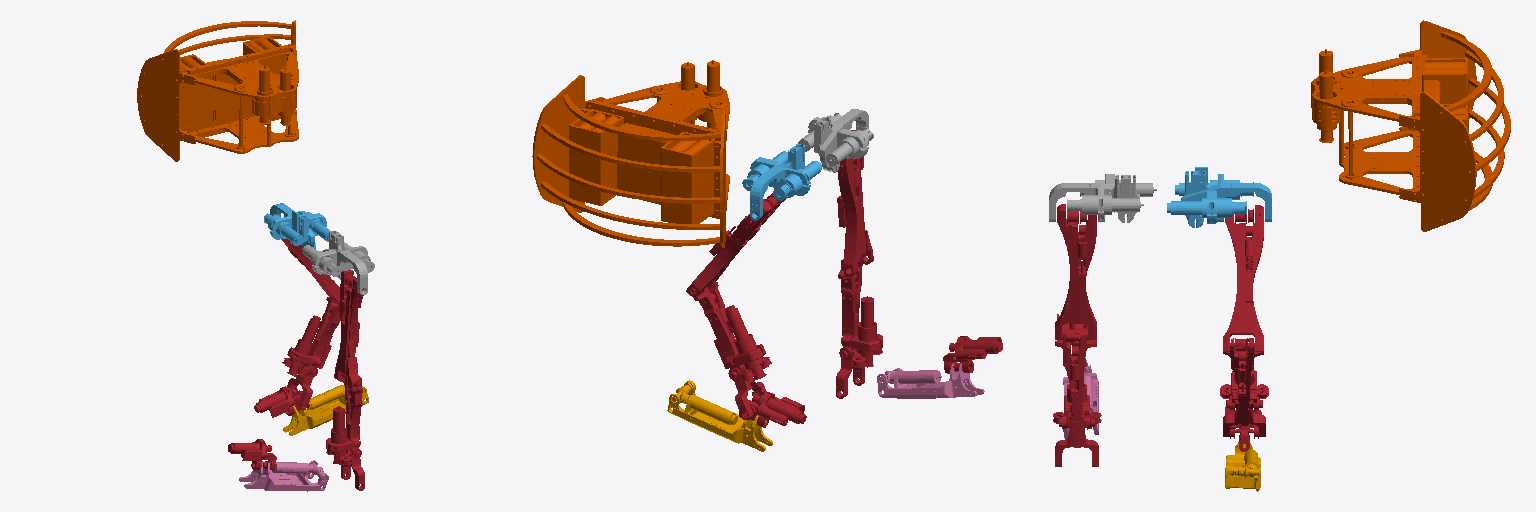
robot.urdf — caminante:
<robot name="caminante">
  
  <link name="l_foot">
    <inertial>
      <mass value="0.410" />
      <origin rpy="0 0 0" xyz="0.027 0 -0.067" />
      <inertia ixx="0.002" ixy="0" ixz="0" iyy="0.007" iyz="0" izz="0.008" />
    </inertial>
    <visual>
      <origin rpy="1.5657   -0.0000   -1.5708" xyz="0.0771   -0.0732    0.1504" />
      <geometry>
        <mesh filename="meshes/Left_Foot.obj" scale="1 1 1" />
      </geometry>
    </visual>
    <collision group="heel">
      <origin rpy="0 0 0" xyz="-0.0876 0.0300001 -0.040001" />
      <geometry>
        <sphere radius="0.0" />
      </geometry>
    </collision>
<!--     <visual group="heel">
      <origin rpy="0 0 0" xyz="-0.0876 0.0300001 -0.040001" />
      <geometry>
        <sphere radius="0.01" />
      </geometry>
    </visual> -->
    <collision group="heel">
      <origin rpy="0 0 0" xyz="-0.0876 -0.0300001 -0.040001" />
      <geometry>
        <sphere radius="0.0" />
      </geometry>
    </collision>
<!--     <visual group="heel">
      <origin rpy="0 0 0" xyz="-0.0876 -0.0300001 -0.040001" />
      <geometry>
        <sphere radius="0.01" />
      </geometry>
    </visual> -->
    <collision group="toe">
      <origin rpy="0 0 0" xyz="0.1728 0.0300001 -0.040001" />
      <geometry>
        <sphere radius="0.0" />
      </geometry>
    </collision>
<!--     <visual group="toe">
      <origin rpy="0 0 0" xyz="0.1728 0.0300001 -0.040001" />
      <geometry>
        <sphere radius="0.01" />
      </geometry>
    </visual> -->
    <collision group="toe">
      <origin rpy="0 0 0" xyz="0.1728 -0.0300001 -0.040001" />
      <geometry>
        <sphere radius="0.0" />
      </geometry>
    </collision>
<!--     <visual group="toe">
      <origin rpy="0 0 0" xyz="0.1728 -0.0300001 -0.040001" />
      <geometry>
        <sphere radius="0.01" />
      </geometry>
    </visual> -->
    <collision group="midfoot_front">
      <origin rpy="0 0 0" xyz="0.086 0.0300001 -0.040001" />
      <geometry>
        <sphere radius="0.0" />
      </geometry>
    </collision>
<!--     <visual group="midfoot_front">
      <origin rpy="0 0 0" xyz="0.086 0.0300001 -0.040001" />
      <geometry>
        <sphere radius="0.01" />
      </geometry>
    </visual> -->
    <collision group="midfoot_front">
      <origin rpy="0 0 0" xyz="0.086 -0.0300001 -0.040001" />
      <geometry>
        <sphere radius="0.0" />
      </geometry>
    </collision>
<!--     <visual group="midfoot_front">
      <origin rpy="0 0 0" xyz="0.086 -0.0300001 -0.040001" />
      <geometry>
        <sphere radius="0.01" />
      </geometry>
    </visual> -->
    <collision group="midfoot_rear">
      <origin rpy="0 0 0" xyz="-0.0008 0.0300001 -0.040001" />
      <geometry>
        <sphere radius="0.0" />
      </geometry>
    </collision>
<!--     <visual group="midfoot_rear">
      <origin rpy="0 0 0" xyz="-0.0008 0.0300001 -0.040001" />
      <geometry>
        <sphere radius="0.01" />
      </geometry>
    </visual> -->
    <collision group="midfoot_rear">
      <origin rpy="0 0 0" xyz="-0.0008 -0.0300001 -0.040001" />
      <geometry>
        <sphere radius="0.0" />
      </geometry>
    </collision>
    <!-- <visual group="midfoot_rear">
      <origin rpy="0 0 0" xyz="-0.0008 -0.0300001 -0.040001" />
      <geometry>
        <sphere radius="0.01" />
      </geometry>
    </visual> -->
  </link>
 

  <link name="l_lglut">
    <inertial>
      <mass value="0.437298303222345" />
      <origin rpy="0  0  0" xyz="-0.03492  0.03099  0.00015" />
      <inertia ixx="0.000344658356090036" ixy="1.4438940947967E-05" ixz="5.03774354824921E-05" iyy="0.000819710121372963" iyz="1.99893504999227E-05" izz="0.00066955963284712" />
    </inertial>
    <visual>
      <origin rpy="0  0  0" xyz="-0.00384 -0.3021  -0.06945" />
      <geometry>
        <mesh filename="meshes/Left_Hip.obj" scale="1 1 1" />
      </geometry>
    </visual>
  </link>
  <link name="l_lleg">
    <inertial>
      <mass value="0.512558545145301" />
      <origin rpy="0  0  0" xyz="0      -0.11018  0.00843" />
      <inertia ixx="0.00213377963819277" ixy="3.74835359824284E-05" ixz="4.14809936352257E-06" iyy="0.000231679313040171" iyz="0.000107877166470471" izz="0.0021213704718963" />
    </inertial>
    <visual>
      <origin rpy="0  0  0" xyz="0.07301 -0.09254 -0.0714" />
      <geometry>
        <mesh filename="meshes/Bottom_Left_Leg.obj" scale="1 1 1" />
      </geometry>
      <material name="red">
        <color rgba="0.675 0.169 0.216 1.0" />
      </material>
    </visual>
  </link>

  <link name="l_talus">
    <inertial>
      <mass value="0.117206413777382" />
      <origin rpy="0  0  0" xyz="0       0.00525  0.02552" />
      <inertia ixx="0.000111896827570048" ixy="5.94543100842475E-07" ixz="2.57140126177776E-06" iyy="0.000105965848764851" iyz="2.65868228080628E-05" izz="4.20803404080659E-05" />
    </inertial>
    <visual>
      <origin rpy="0  0  0" xyz="0.07317  0.12875 -0.07027" />
      <geometry>
        <mesh filename="meshes/Left_Ankle.obj" scale="1 1 1" />
      </geometry>
      <material name="red">
        <color rgba="0.675 0.169 0.216 1.0" />
      </material>
    </visual>
  </link>


  <link name="l_uleg">
    <inertial>
      <mass value="0.498661421818378" />
      <origin rpy="0  0  0" xyz="0      -0.09292 -0.00071" />
      <inertia ixx="0.00222023286489819" ixy="2.76170328092637E-05" ixz="4.42071982951624E-07" iyy="0.000133616406118555" iyz="1.5209311638611E-05" izz="0.00230781854965746" />
    </inertial>
    <visual>
      <origin rpy="0  0  0" xyz="0.07675 -0.30208 -0.07247" />
      <geometry>
        <mesh filename="meshes/Top_Left_Leg.obj" scale="1 1 1" />
      </geometry>
      <material name="red">
        <color rgba="0.675 0.169 0.216 1.0" />
      </material>
    </visual>
    
    
    
  </link>

  <link name="pelvis">
    <inertial>
      <mass value="6.4909068" />
      <origin rpy="1.56567  0      -1.57079" xyz="0 0 0" />
      <inertia ixx="0.0271179077728007" ixy="1.18852566353138E-05" ixz="2.95478792996208E-05" iyy="0.0323353494450389" iyz="0.00289482168449842" izz="0.0422145237899791" />
    </inertial>
    <visual>
      <geometry>
        
        <origin rpy="1.56567  0      -1.57079" xyz="0.0786    0.05923   -0.41164" />
        <mesh filename="meshes/Body.obj" scale="1 1 1" />
      </geometry>
    </visual>
  </link>
 
  <link name="r_foot">
    <inertial>
      <mass value="0.41" />
      <origin rpy="0 0 0" xyz="0.027 0 -0.067" />
      <inertia ixx="0.002" ixy="0" ixz="0" iyy="0.007" iyz="0" izz="0.008" />
    </inertial>
    <visual>
      <origin rpy="1.5657   -0.0000   -1.5708" xyz="0.0771    0.1935    0.1504" />
      <geometry>
        <mesh filename="meshes/Right_Foot.obj" scale="1 1 1" />
      </geometry>
    </visual>
    <collision group="heel">
      <origin rpy="0 0 0" xyz="-0.0876 0.0300001 -0.040001" />
      <geometry>
        <sphere radius="0.0" />
      </geometry>
    </collision>
<!--     <visual group="heel">
      <origin rpy="0 0 0" xyz="-0.0876 0.0300001 -0.040001" />
      <geometry>
        <sphere radius="0.01" />
      </geometry>
    </visual> -->
    <collision group="heel">
      <origin rpy="0 0 0" xyz="-0.0876 -0.0300001 -0.040001" />
      <geometry>
        <sphere radius="0.0" />
      </geometry>
    </collision>
    <!-- <visual group="heel">
      <origin rpy="0 0 0" xyz="-0.0876 -0.0300001 -0.040001" />
      <geometry>
        <sphere radius="0.01" />
      </geometry>
    </visual> -->
    <collision group="toe">
      <origin rpy="0 0 0" xyz="0.1728 0.0300001 -0.040001" />
      <geometry>
        <sphere radius="0.0" />
      </geometry>
    </collision>
    <!-- <visual group="toe">
      <origin rpy="0 0 0" xyz="0.1728 0.0300001 -0.040001" />
      <geometry>
        <sphere radius="0.01" />
      </geometry>
    </visual> -->
    <collision group="toe">
      <origin rpy="0 0 0" xyz="0.1728 -0.0300001 -0.040001" />
      <geometry>
        <sphere radius="0.0" />
      </geometry>
    </collision>
    <!-- <visual group="toe">
      <origin rpy="0 0 0" xyz="0.1728 -0.0300001 -0.040001" />
      <geometry>
        <sphere radius="0.01" />
      </geometry>
    </visual> -->
    <collision group="midfoot_front">
      <origin rpy="0 0 0" xyz="0.086 0.0300001 -0.040001" />
      <geometry>
        <sphere radius="0.0" />
      </geometry>
    </collision>
    <!-- <visual group="midfoot_front">
      <origin rpy="0 0 0" xyz="0.086 0.0300001 -0.040001" />
      <geometry>
        <sphere radius="0.01" />
      </geometry>
    </visual> -->
    <collision group="midfoot_front">
      <origin rpy="0 0 0" xyz="0.086 -0.0300001 -0.040001" />
      <geometry>
        <sphere radius="0.0" />
      </geometry>
    </collision>
    <!-- <visual group="midfoot_front">
      <origin rpy="0 0 0" xyz="0.086 -0.0300001 -0.040001" />
      <geometry>
        <sphere radius="0.01" />
      </geometry>
    </visual> -->
    <collision group="midfoot_rear">
      <origin rpy="0 0 0" xyz="-0.0008 0.0300001 -0.040001" />
      <geometry>
        <sphere radius="0.0" />
      </geometry>
    </collision>
<!--     <visual group="midfoot_rear">
      <origin rpy="0 0 0" xyz="-0.0008 0.0300001 -0.040001" />
      <geometry>
        <sphere radius="0.01" />
      </geometry>
    </visual> -->
    <collision group="midfoot_rear">
      <origin rpy="0 0 0" xyz="-0.0008 -0.0300001 -0.040001" />
      <geometry>
        <sphere radius="0.0" />
      </geometry>
    </collision>
<!--     <visual group="midfoot_rear">
      <origin rpy="0 0 0" xyz="-0.0008 -0.0300001 -0.040001" />
      <geometry>
        <sphere radius="0.01" />
      </geometry>
    </visual> -->
  </link>


  
  <link name="r_lglut">
    <inertial>
      <mass value="0.429542604129865" />
      <origin rpy="0  0  0" xyz="0.03461  0.03088  0.00015" />
      <inertia ixx="0.000335620222780637" ixy="1.71766252899159E-05" ixz="6.82036560203188E-05" iyy="0.000796625170345829" iyz="1.87749814800264E-05" izz="0.000651844767117383" />
    </inertial>
    <visual>
      <origin rpy="0  0  0" xyz="-0.11497 -0.30207 -0.0756" />
      <geometry>
        <mesh filename="meshes/Right_Hip.obj" scale="1 1 1" />
      </geometry>
    </visual>
  </link>
  <link name="r_lleg">
    <inertial>
      <mass value="0.496399914621672" />
      <origin rpy="0  0  0" xyz="0      -0.11414  0.00893" />
      <inertia ixx="0.00193251368574828" ixy="2.87905126861506E-05" ixz="3.64310219704147E-06" iyy="0.000228879661927419" iyz="9.27392912409724E-05" izz="0.00191229395918849" />
    </inertial>
    <visual>
      <origin rpy="0  0  0" xyz="-0.1935  -0.09254 -0.0714" />
      <geometry>
        <mesh filename="meshes/Bottom_Right_Leg.obj" scale="1 1 1" />
      </geometry>
      <material name="red">
        <color rgba="0.675 0.169 0.216 1.0" />
      </material>
    </visual>
  </link>

  <link name="r_talus">
    <inertial>
      <mass value="0.113529232705104" />
      <origin rpy="0  0  0" xyz="0       0.00601  0.02692" />
      <inertia ixx="0.000102683690789615" ixy="5.24094963661094E-07" ixz="2.43532379680455E-06" iyy="9.8810717962194E-05" iyz="2.27559446851328E-05" izz="3.98903277983113E-05" />
    </inertial>
    <visual>
      <origin rpy="0  0  0" xyz="-0.19355  0.12875 -0.07027" />
      <geometry>
        <mesh filename="meshes/Right_Ankle.obj" scale="1 1 1" />
      </geometry>
      <material name="red">
        <color rgba="0.675 0.169 0.216 1.0" />
      </material>
    </visual>
  </link>



  <link name="r_uleg">
    <inertial>
      <mass value="0.473894617598188" />
      <origin rpy="0  0  0" xyz="0      -0.09427 -0.00073" />
      <inertia ixx="0.00219613513040201" ixy="2.41554166439975E-05" ixz="4.92477643768768E-07" iyy="0.000130736562803138" iyz="1.49414818095768E-05" izz="0.00228460638702232" />
    </inertial>
    <visual>
      <origin rpy="0  0  0" xyz="-0.19021 -0.30208 -0.07247" />
      <geometry>
        <mesh filename="meshes/Top_Right_Leg.obj" scale="1 1 1" />
      </geometry>
      <material name="red">
        <color rgba="0.675 0.169 0.216 1.0" />
      </material>
    </visual>
    
    
    
 </link> 







  <joint name="l_leg_akx" type="revolute">
    <origin rpy="-0.0012    1.5657    1.5696" xyz="0   -0.0220    0.0060" />
    <axis xyz="1 0 0" />
    <parent link="l_talus" />
    <child link="l_foot" />
    <dynamics damping="0.1" friction="0" />
    <limit effort="4.4928" lower="-0.8" upper="0.8" velocity="12" />
    <safety_controller k_position="100" k_velocity="100" soft_lower_limit="-10.8" soft_upper_limit="10.8" />
  </joint>
  <joint name="l_leg_aky" type="revolute">
    <origin rpy="0  0  0" xyz="-1.50000000e-04  -2.21290000e-01  -1.13000000e-03" />
    <axis xyz="-1  0  0" />
    <parent link="l_lleg" />
    <child link="l_talus" />
    <dynamics damping="0.1" friction="0" />
    <limit effort="67.932" lower="-1" upper="0.7" velocity="12" />
    <safety_controller k_position="100" k_velocity="100" soft_lower_limit="-11" soft_upper_limit="10.7" />
  </joint>
  <joint name="l_leg_hpx" type="revolute">
    
    <origin rpy="1.56567  0      -1.57079" xyz="0.0107    0.05539   -0.10919" />
    
    <axis xyz="0      -0.00511  0.99998" />  
    <parent link="pelvis" />
    <child link="l_lglut" />
    <dynamics damping="0.1" friction="0" />
    <limit effort="67.932" lower="-0.523599" upper="0.523599" velocity="12" />
    <safety_controller k_position="100" k_velocity="100" soft_lower_limit="-10.5236" soft_upper_limit="10.5236" />
  </joint>
  <joint name="l_leg_hpy" type="revolute">
    
    <origin rpy="0  0  0" xyz="-8.05900000e-02  -1.00000000e-05   3.02000000e-03" />
    <axis xyz="-1  0  0" />
    <parent link="l_lglut" />
    <child link="l_uleg" />
    <dynamics damping="0.1" friction="0" />
    <limit effort="67.932" lower="-1.61234" upper="0.65764" velocity="12" />
    <safety_controller k_position="100" k_velocity="100" soft_lower_limit="-11.6123" soft_upper_limit="10.6576" />
  </joint>

  <joint name="l_leg_kny" type="revolute">
    <origin rpy="0  0  0" xyz="0.00373 -0.20954 -0.00107" />
    <axis xyz="-1  0  0" />
    <parent link="l_uleg" />
    <child link="l_lleg" />
    <dynamics damping="0.1" friction="0" />
    <limit effort="67.932" lower="0" upper="2" velocity="12" />
    <safety_controller k_position="100" k_velocity="100" soft_lower_limit="-10" soft_upper_limit="12.3564" />
  </joint>



  <joint name="r_leg_akx" type="revolute">
    <origin rpy="-0.0012    1.5657    1.5696" xyz="0   -0.0220    0.0060" />
    <axis xyz="1 0 0" />
    <parent link="r_talus" />
    <child link="r_foot" />
    <dynamics damping="0.1" friction="0" />
    <limit effort="4.4928" lower="-0.8" upper="0.8" velocity="12" />
    <safety_controller k_position="100" k_velocity="100" soft_lower_limit="-10.8" soft_upper_limit="10.8" />
  </joint>
  <joint name="r_leg_aky" type="revolute">
    <origin rpy="0  0  0" xyz="4.00000000e-05  -2.21290000e-01  -1.13000000e-03" />
    <axis xyz="-1  0  0" />
    <parent link="r_lleg" />
    <child link="r_talus" />
    <dynamics damping="0.1" friction="0" />
    <limit effort="67.932" lower="-1" upper="0.7" velocity="12" />
    <safety_controller k_position="100" k_velocity="100" soft_lower_limit="-11" soft_upper_limit="10.7" />
  </joint>
  <joint name="r_leg_hpx" type="revolute">
    <origin rpy="1.56567  0      -1.57079" xyz="0.00455  -0.05573  -0.10919" />
    <axis xyz="0       0.00511 -0.99998" />
    <parent link="pelvis" />
    <child link="r_lglut" />
    <dynamics damping="0.1" friction="0" />
    <limit effort="67.932" lower="-0.523599" upper="0.523599" velocity="12" />
    <safety_controller k_position="100" k_velocity="100" soft_lower_limit="-10.5236" soft_upper_limit="10.5236" />
  </joint>
  <joint name="r_leg_hpy" type="revolute">
    <origin rpy="0  0  0" xyz="7.52400000e-02   1.00000000e-05  -3.13000000e-03" />
    <axis xyz="-1  0  0" />
    <parent link="r_lglut" />
    <child link="r_uleg" />
    <dynamics damping="0.1" friction="0" />
    <limit effort="67.932" lower="-1.61234" upper="0.65764" velocity="12" />
    <safety_controller k_position="100" k_velocity="100" soft_lower_limit="-11.6123" soft_upper_limit="10.6576" />
  </joint>

  <joint name="r_leg_kny" type="revolute">
    <origin rpy="0  0  0" xyz="0.00328 -0.20954 -0.00107" />
    <axis xyz="-1  0  0" />
    <parent link="r_uleg" />
    <child link="r_lleg" />
    <dynamics damping="0.1" friction="0" />
    <limit effort="67.932" lower="0" upper="2" velocity="12" />
    <safety_controller k_position="100" k_velocity="100" soft_lower_limit="-10" soft_upper_limit="12.3564" />
  </joint>
 
  <frame link="l_foot" name="l_foot_sole" rpy="0 0 0" xyz="0.0426  0.0017 -0.040001" />
  <frame link="r_foot" name="r_foot_sole" rpy="0 0 0" xyz="0.0426 -0.0017 -0.040001" />
  <frame link="l_foot" name="l_foot_toe" rpy="0 0 0" xyz="0.1728 0.0017 -0.040001" />
  <frame link="r_foot" name="r_foot_toe" rpy="0 0 0" xyz="0.1728 -0.0017 -0.040001" />



 
  



  <transmission name="l_leg_kny_trans" type="pr2_mechanism_model/SimpleTransmission">
    <actuator name="l_leg_kny_motor" />
    <joint name="l_leg_kny" />
    <mechanicalReduction>1</mechanicalReduction>
  </transmission>
  <transmission name="l_leg_akx_trans" type="pr2_mechanism_model/SimpleTransmission">
    <actuator name="l_leg_akx_motor" />
    <joint name="l_leg_akx" />
    <mechanicalReduction>1</mechanicalReduction>
  </transmission>
  <transmission name="l_leg_hpy_trans" type="pr2_mechanism_model/SimpleTransmission">
    <actuator name="l_leg_hpy_motor" />
    <joint name="l_leg_hpy" />
    <mechanicalReduction>1</mechanicalReduction>
  </transmission>
  <transmission name="l_leg_hpx_trans" type="pr2_mechanism_model/SimpleTransmission">
    <actuator name="l_leg_hpx_motor" />
    <joint name="l_leg_hpx" />
    <mechanicalReduction>1</mechanicalReduction>
  </transmission>
  <transmission name="l_leg_aky_trans" type="pr2_mechanism_model/SimpleTransmission">
    <actuator name="l_leg_aky_motor" />
    <joint name="l_leg_aky" />
    <mechanicalReduction>1</mechanicalReduction>
  </transmission>



  <transmission name="r_leg_kny_trans" type="pr2_mechanism_model/SimpleTransmission">
    <actuator name="r_leg_kny_motor" />
    <joint name="r_leg_kny" />
    <mechanicalReduction>1</mechanicalReduction>
  </transmission>
  <transmission name="r_leg_akx_trans" type="pr2_mechanism_model/SimpleTransmission">
    <actuator name="r_leg_akx_motor" />
    <joint name="r_leg_akx" />
    <mechanicalReduction>1</mechanicalReduction>
  </transmission>
  <transmission name="r_leg_hpy_trans" type="pr2_mechanism_model/SimpleTransmission">
    <actuator name="r_leg_hpy_motor" />
    <joint name="r_leg_hpy" />
    <mechanicalReduction>1</mechanicalReduction>
  </transmission>
  <transmission name="r_leg_hpx_trans" type="pr2_mechanism_model/SimpleTransmission">
    <actuator name="r_leg_hpx_motor" />
    <joint name="r_leg_hpx" />
    <mechanicalReduction>1</mechanicalReduction>
  </transmission>
  <transmission name="r_leg_aky_trans" type="pr2_mechanism_model/SimpleTransmission">
    <actuator name="r_leg_aky_motor" />
    <joint name="r_leg_aky" />
    <mechanicalReduction>1</mechanicalReduction>
  </transmission>



</robot>

--- What the picture shows (computed from the rendered views, not written in the file) ---
3 views of the same robot in one strip: view 1: azimuth 30°, elevation 25°; view 2: azimuth 150°, elevation 25°; view 3: azimuth 270°, elevation 25° (orthographic).
Robot: caminante — 11 links, 10 joints (10 revolute); root link pelvis; default pose: all joints at 0.
Links seen in each view (by area): view 1: pelvis, l_lleg, r_lleg, r_uleg, r_lglut, r_foot, l_lglut, l_foot, r_talus, l_talus, l_uleg; view 2: pelvis, l_lleg, r_lleg, l_lglut, r_lglut, l_foot, r_uleg, r_foot, l_uleg, r_talus, l_talus; view 3: pelvis, l_lglut, r_lleg, l_uleg, r_uleg, r_lglut, l_lleg, l_foot, r_foot.
Link boxes in pixels (x1,y1,x2,y2): pelvis: (137, 20, 298, 161); l_lleg: (282, 297, 340, 409); r_lleg: (326, 374, 364, 490); r_uleg: (334, 270, 363, 391); r_lglut: (302, 231, 374, 294); r_foot: (239, 460, 328, 491); l_lglut: (264, 203, 330, 248); l_foot: (283, 385, 368, 435); r_talus: (228, 439, 276, 469); l_talus: (254, 386, 309, 417); l_uleg: (281, 239, 339, 302); pelvis: (532, 60, 729, 247); l_lleg: (691, 281, 771, 419); r_lleg: (836, 256, 882, 398); l_lglut: (742, 144, 821, 220); r_lglut: (798, 109, 873, 172); l_foot: (667, 380, 772, 451); r_uleg: (837, 130, 873, 276); r_foot: (877, 363, 984, 398); l_uleg: (686, 189, 784, 296); r_talus: (943, 336, 1002, 373); l_talus: (739, 392, 806, 427); pelvis: (1311, 20, 1510, 231); l_lglut: (1167, 167, 1271, 227); r_lleg: (1053, 328, 1101, 466); l_uleg: (1223, 205, 1263, 351); r_uleg: (1055, 204, 1096, 339); r_lglut: (1049, 174, 1156, 222); l_lleg: (1220, 338, 1268, 438); l_foot: (1225, 442, 1260, 491); r_foot: (1063, 360, 1098, 439).
Size in the robot's own frame: 0.5131 by 0.7353 by 0.7459 metres.
11 mesh visuals loaded from 11 distinct referenced files (11 OBJ).